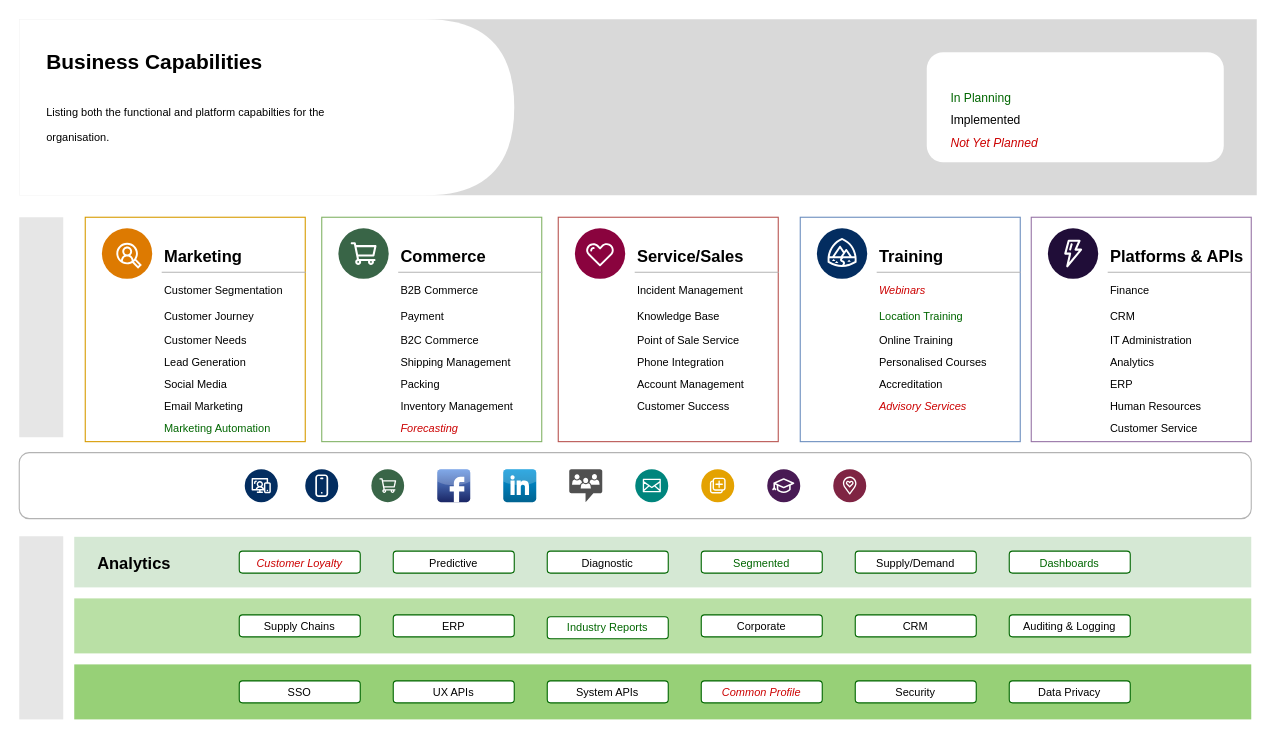
Image size: 1276x738. Some labels were removed from this diagram. Each missing label, with the box of its shape:
Channels: (18, 452, 1251, 519)
Data Sources: (74, 598, 1251, 653)
Functional Capabilities: (19, 217, 63, 437)
Integration: (74, 664, 1251, 719)
Key: (926, 52, 1223, 162)
Platform Capabilities: (19, 536, 63, 719)
